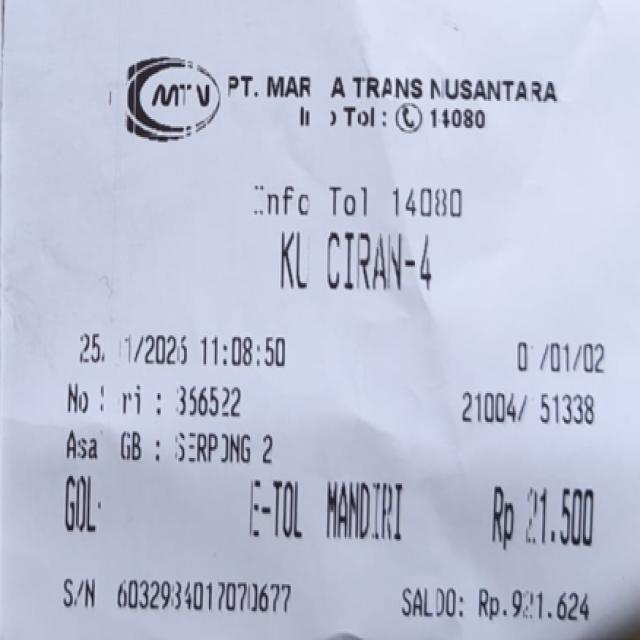date: (69, 333, 288, 372)
store: (220, 69, 559, 112)
total: (485, 478, 601, 556)
